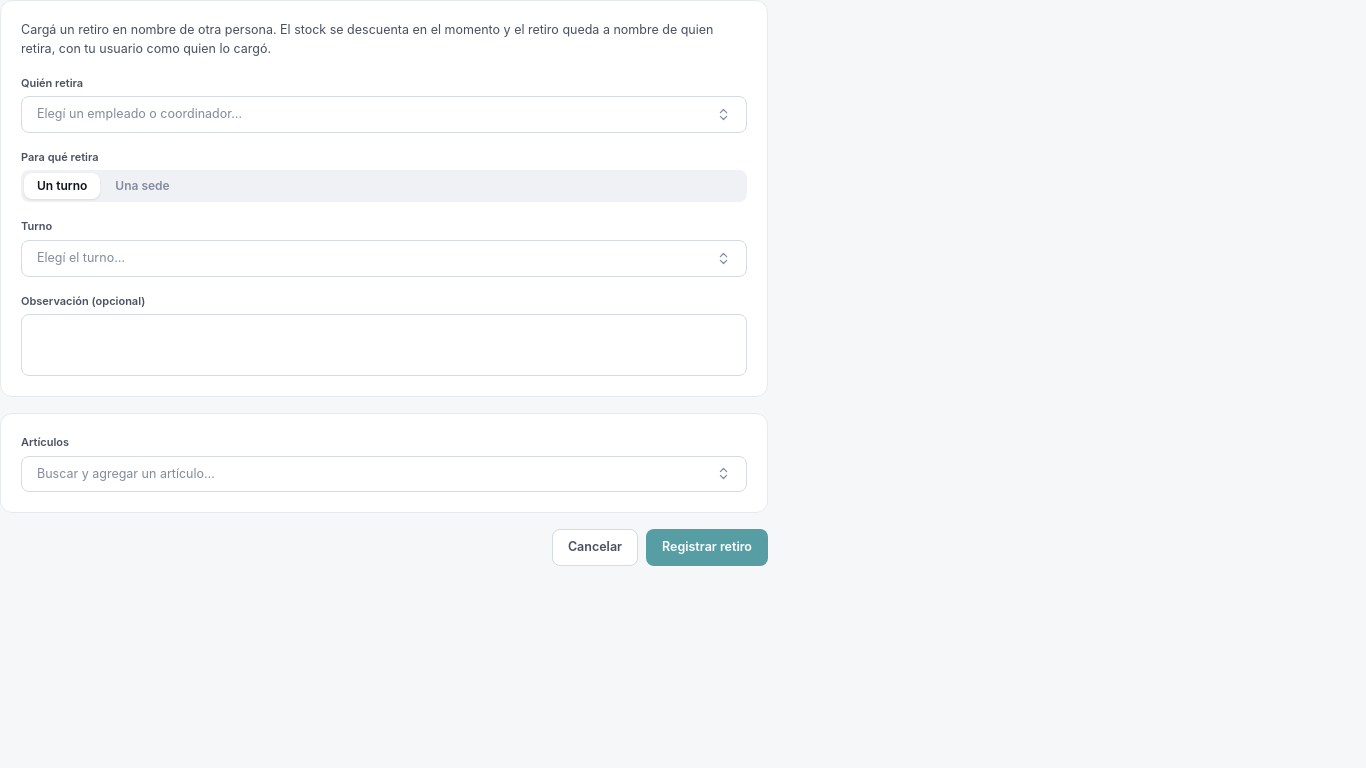
Test case: WithdrawalOnBehalfScreen: retiro en nombre de (IS-11, IS-12) › ofrece empleados y coordinadores, y solo artículos activos con stock
Step 1. Click the dropdown named "Quién retira" → coordinates (139, 114), box [21, 96, 747, 133]
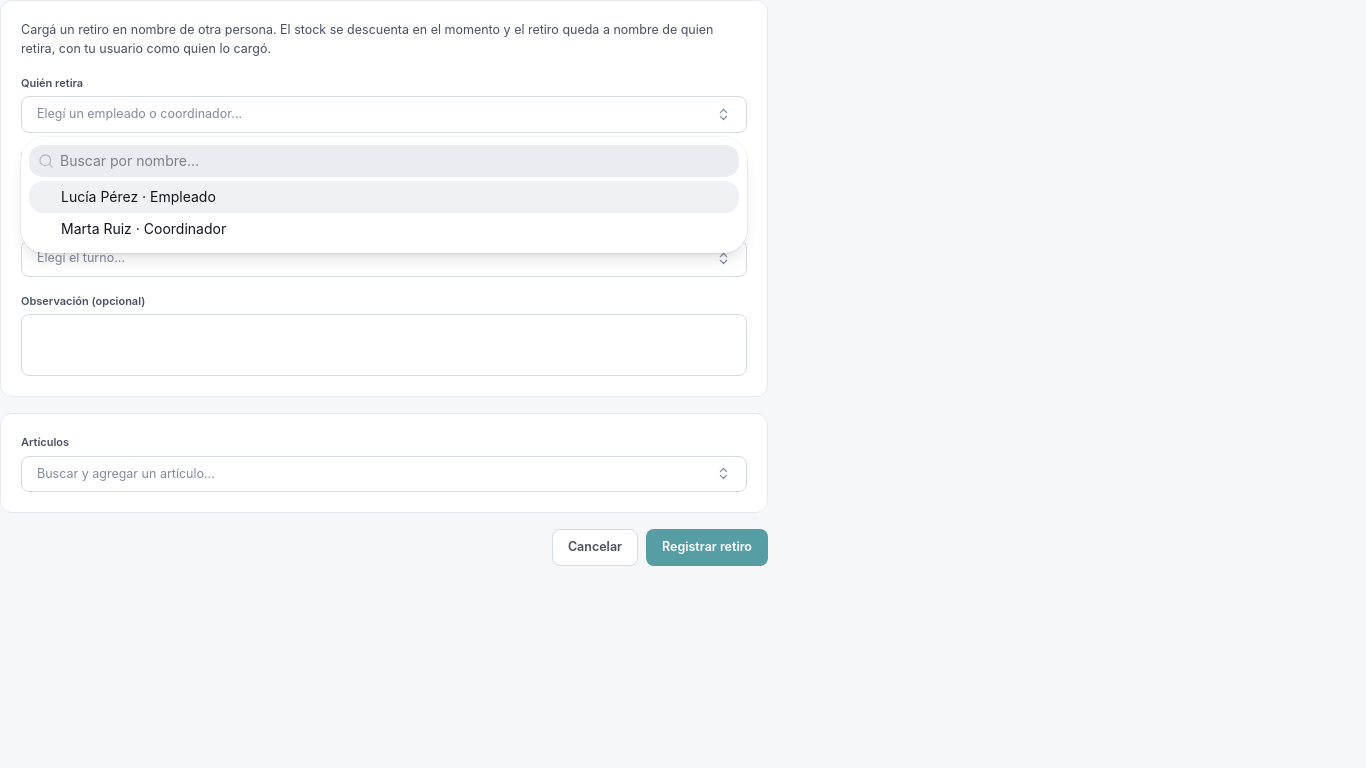
Expected: the option "Lucía Pérez · Empleado" is shown, [29, 181, 739, 213]
Expected: the option "Marta Ruiz · Coordinador" is shown, [61, 220, 226, 237]
Step 2. Press Escape in the dropdown with placeholder "Buscar por nombre…", box [54, 151, 738, 171]
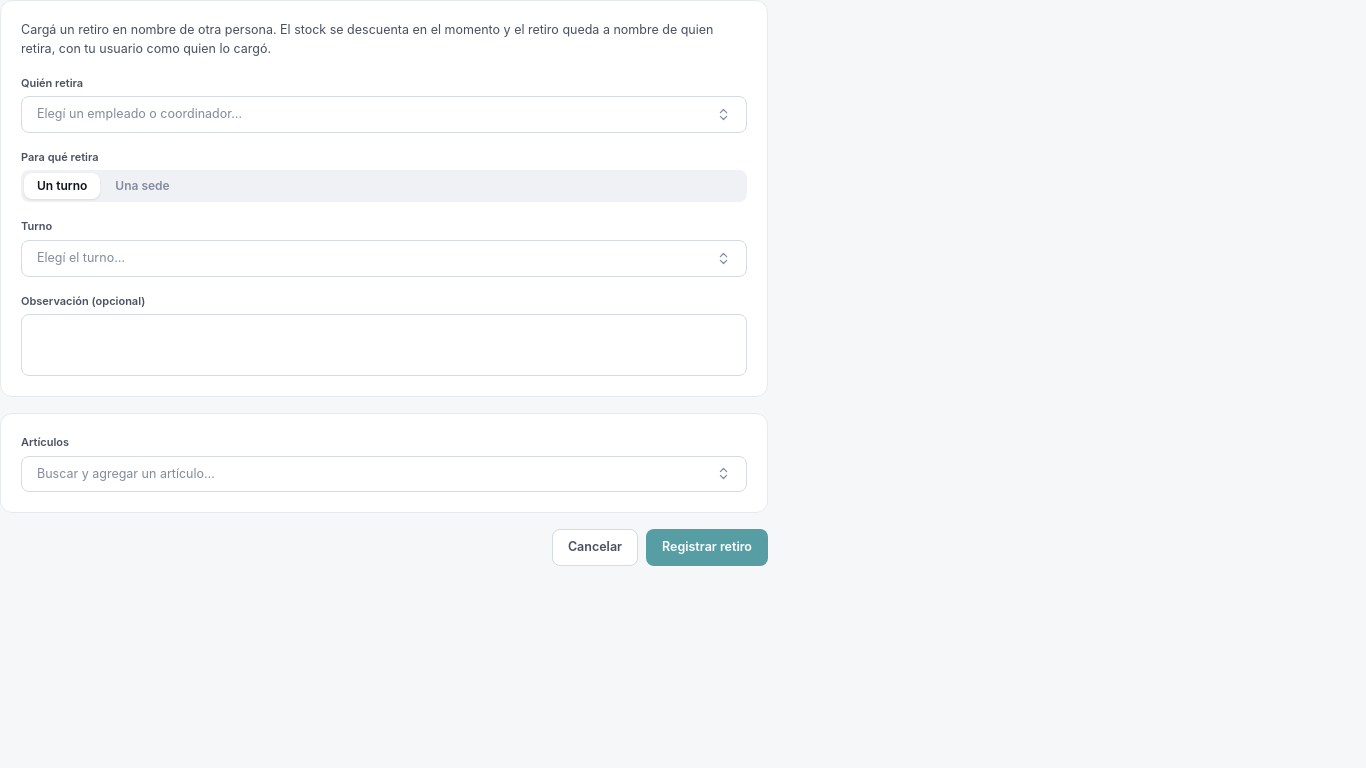
Step 3. Click the dropdown labelled "agregar un artículo" → coordinates (126, 473), box [21, 456, 747, 492]
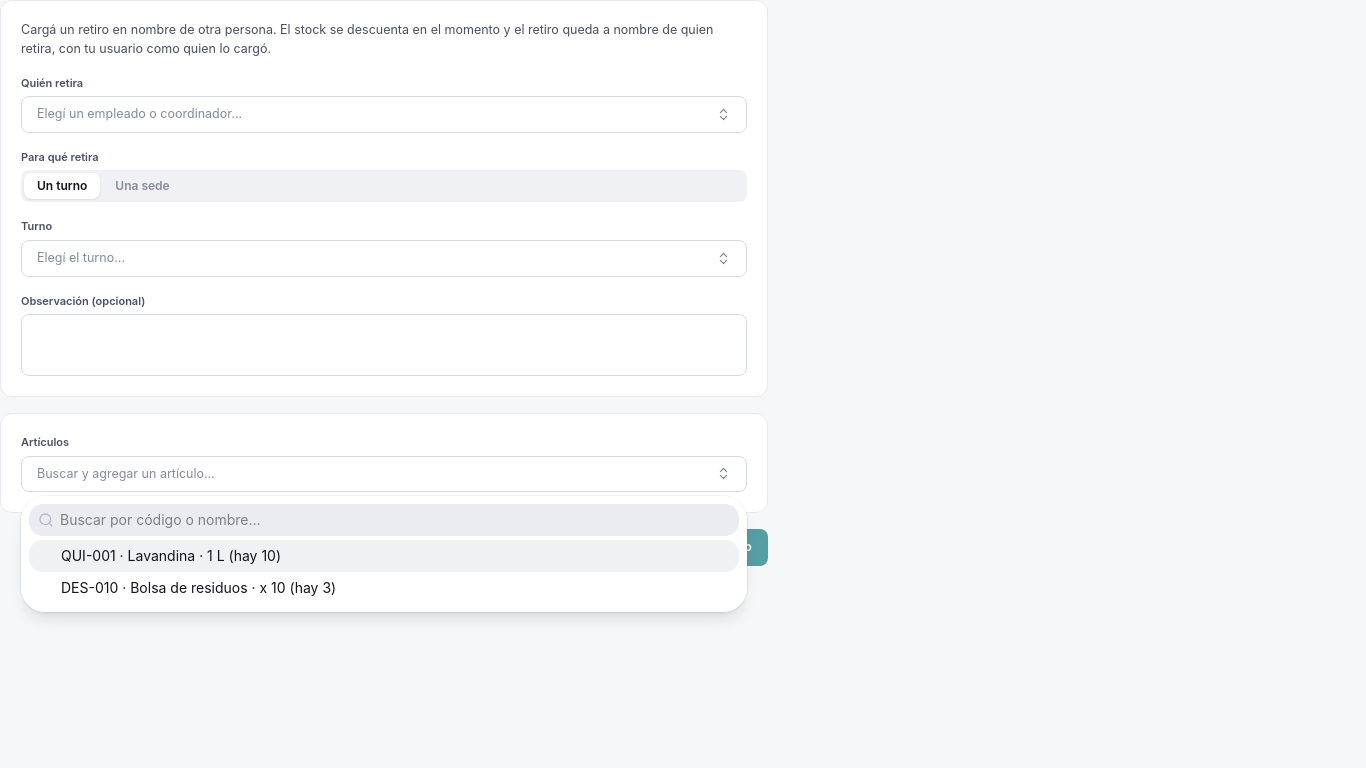
Expected: the option "QUI-001 · Lavandina · 1 L (hay 10)" is shown, [29, 540, 739, 572]
